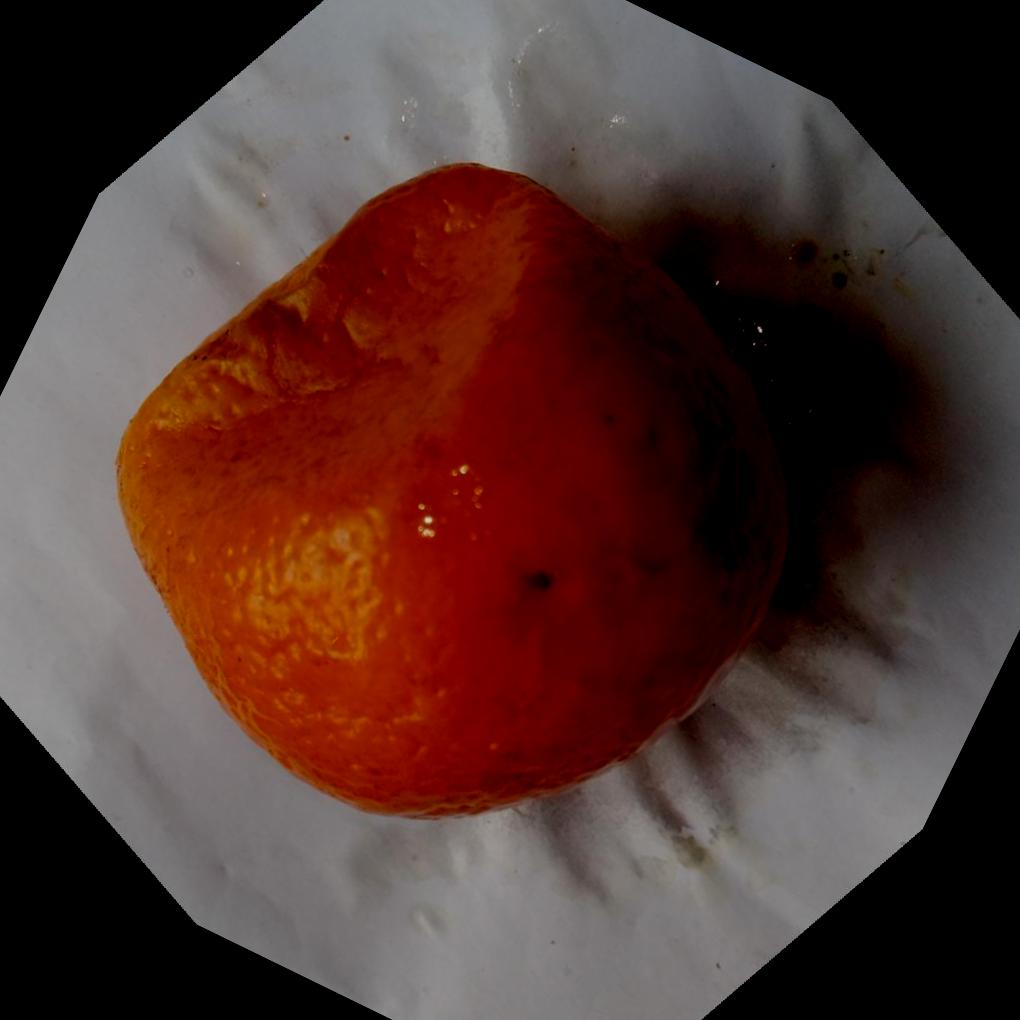FreshOrange: (115, 158, 797, 817)
